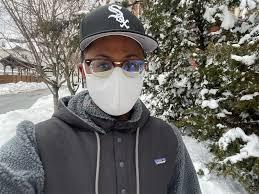cap: (77, 1, 162, 61)
mask: (80, 65, 151, 117)
sunglasses: (86, 52, 147, 80)
